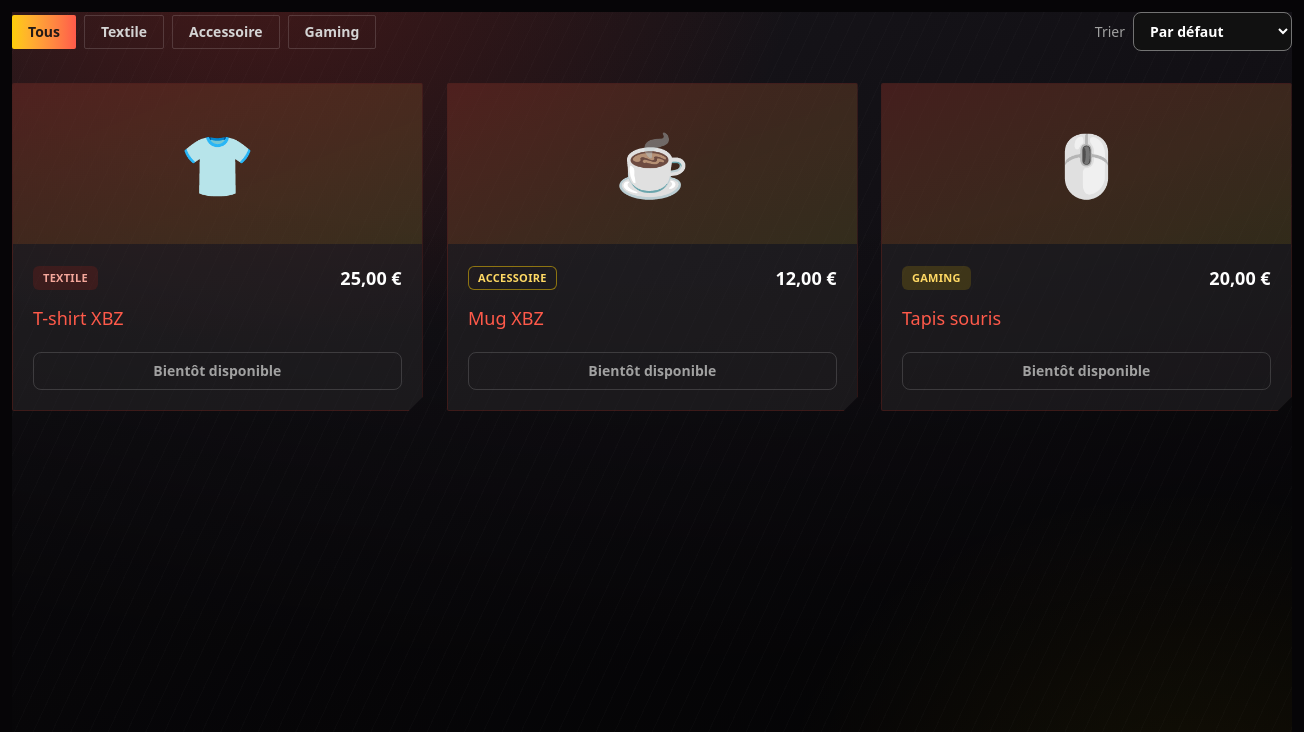
Scenario: BoutiqueList › trie par prix croissant
Select "Prix croissant" in the dropdown labelled "Trier" at coordinates (1212, 32), box left=1133, top=12, right=1292, bottom=51
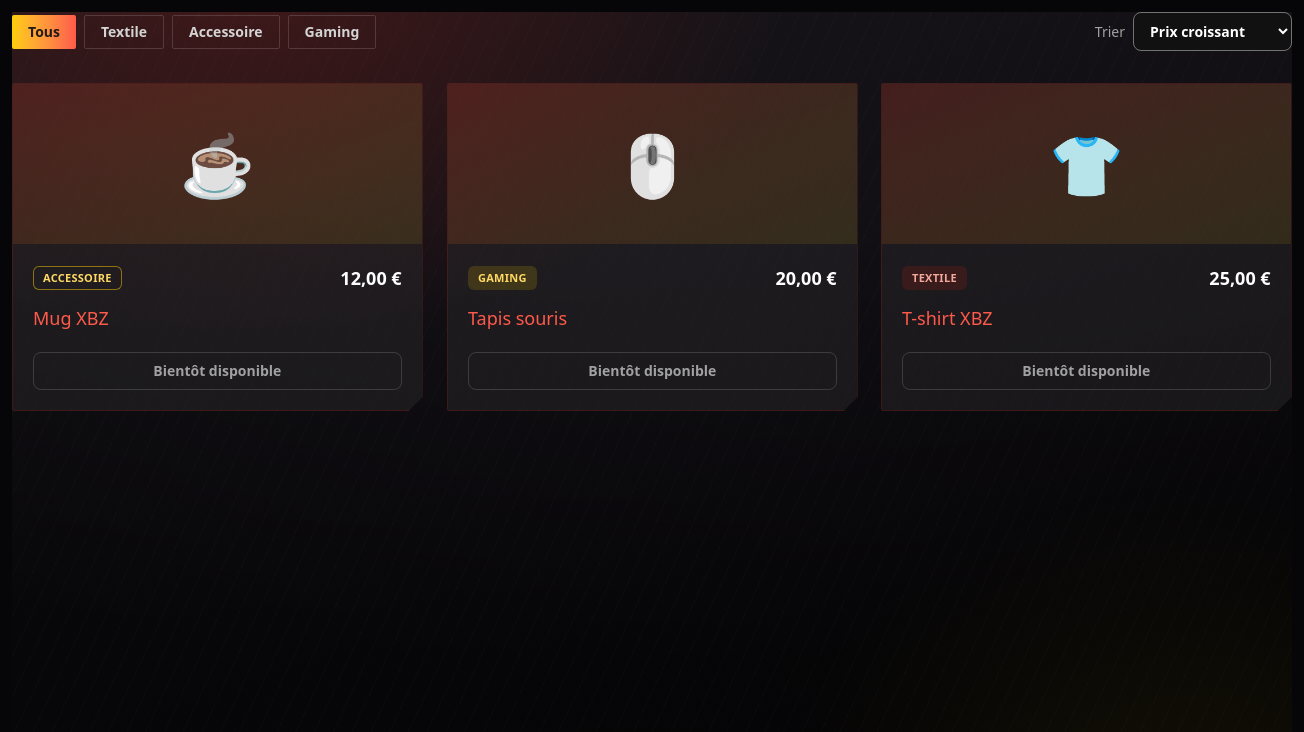
Now the headings read "Mug XBZ", "Tapis souris", "T-shirt XBZ", in this order, box left=33, top=306, right=109, bottom=330; left=468, top=306, right=567, bottom=330; left=902, top=306, right=993, bottom=330
